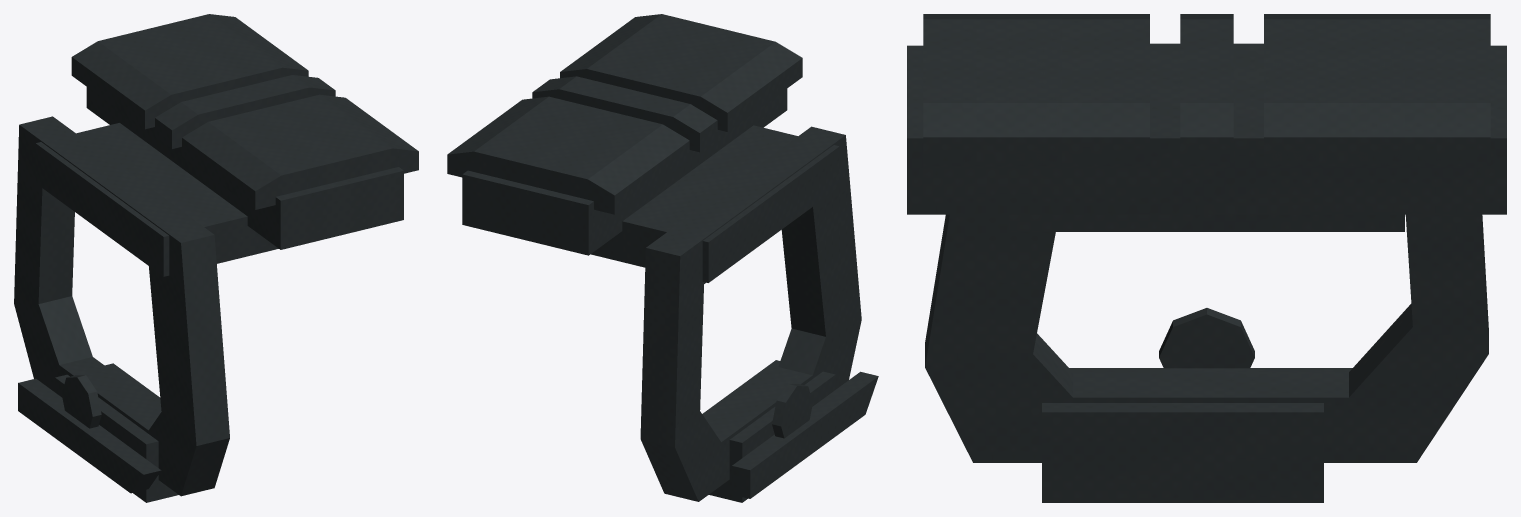
The model's file is vityaz_mount.glb.
The picture shows the model from 3 angles, left to right: view 1: azimuth 30°, elevation 25°; view 2: azimuth 150°, elevation 25°; view 3: azimuth 270°, elevation 25°; orthographic projection. The views are drawn at different scales.
Visible parts, largest first — view 1: mount__vityaz_mount_LOD0_RAID_Secondary_Original_steel, mount__vityaz_mount_LOD1_RAID_Secondary_Original_steel; view 2: mount__vityaz_mount_LOD0_RAID_Secondary_Original_steel, mount__vityaz_mount_LOD1_RAID_Secondary_Original_steel; view 3: mount__vityaz_mount_LOD0_RAID_Secondary_Original_steel, mount__vityaz_mount_LOD1_RAID_Secondary_Original_steel.
Boxes of the visible parts, bbox=[...] form: mount__vityaz_mount_LOD0_RAID_Secondary_Original_steel: bbox=[14, 14, 418, 502]; mount__vityaz_mount_LOD1_RAID_Secondary_Original_steel: bbox=[85, 23, 400, 196]; mount__vityaz_mount_LOD0_RAID_Secondary_Original_steel: bbox=[447, 14, 878, 502]; mount__vityaz_mount_LOD1_RAID_Secondary_Original_steel: bbox=[465, 24, 784, 201]; mount__vityaz_mount_LOD0_RAID_Secondary_Original_steel: bbox=[907, 14, 1506, 502]; mount__vityaz_mount_LOD1_RAID_Secondary_Original_steel: bbox=[964, 14, 1449, 166].
Bounding box in the file's own units: 0.1145 × 0.1415 × 0.15.
Materials: 1 (1 with a texture image).
